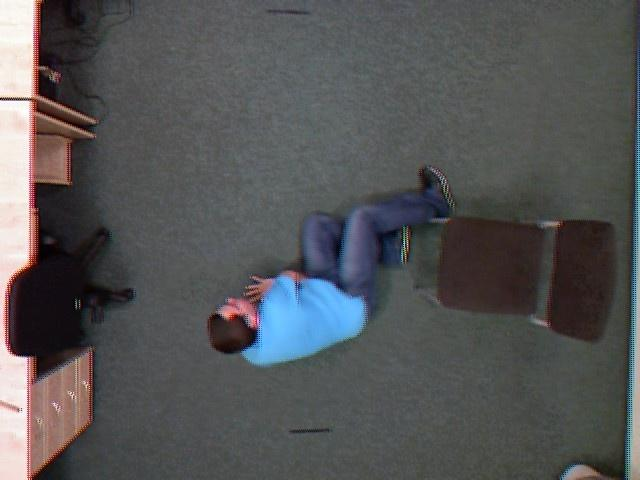fall: (195, 160, 461, 378)
